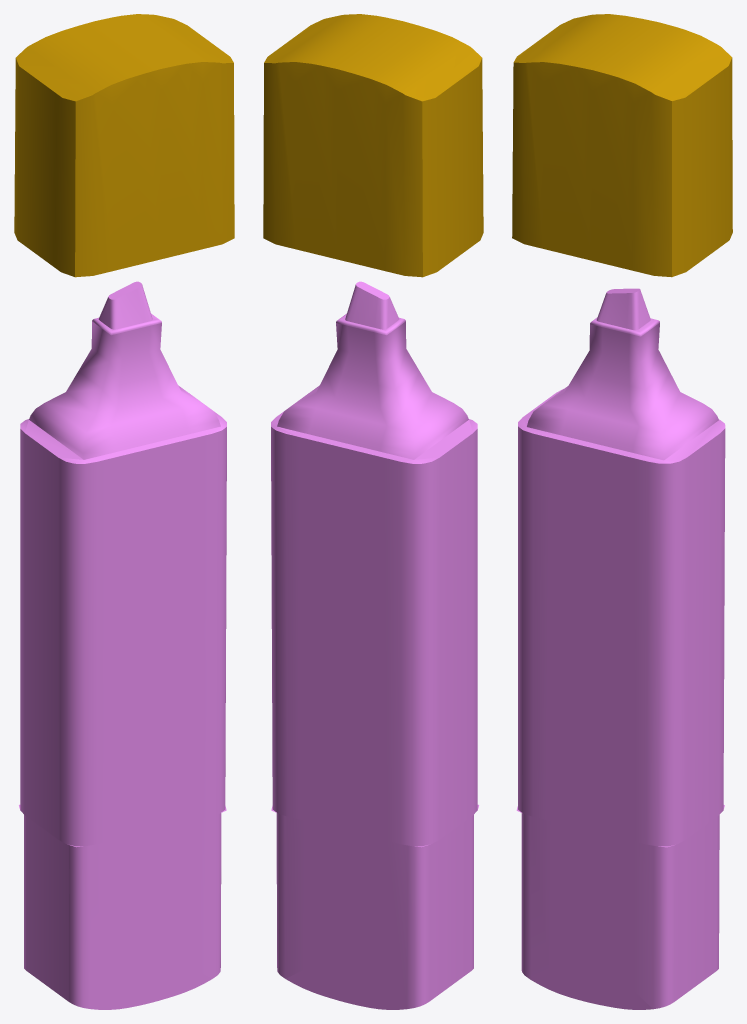
Rendered from Highlighter.fbx.
3 views of the same model, side by side, from view 1: azimuth 30°, elevation 25°; view 2: azimuth 150°, elevation 25°; view 3: azimuth 330°, elevation 25° (orthographic).
Visible parts, largest first — view 1: Highlighter, bouchon; view 2: Highlighter, bouchon; view 3: Highlighter, bouchon.
Boxes of the visible parts, x1,y1,x2,y2 form: Highlighter: [19, 281, 226, 1009]; bouchon: [14, 14, 234, 277]; Highlighter: [271, 281, 478, 1009]; bouchon: [263, 14, 483, 277]; Highlighter: [516, 288, 725, 1009]; bouchon: [512, 14, 732, 277].
Size of the model in its own units: 2.62 by 13.72 by 1.79.
